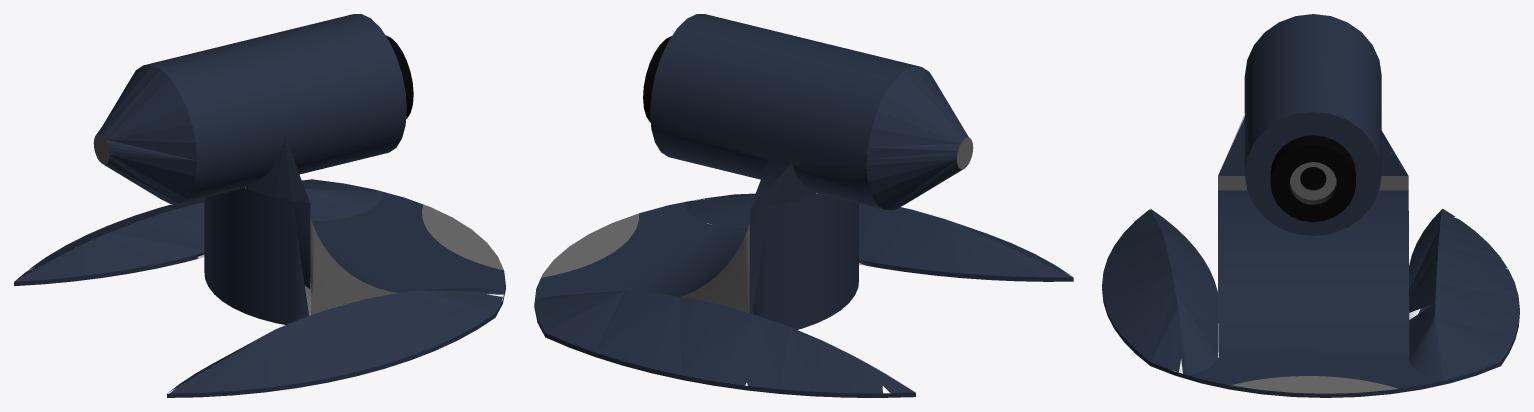
3 views of the same model, side by side, from view 1: azimuth 30°, elevation 25°; view 2: azimuth 150°, elevation 25°; view 3: azimuth 270°, elevation 25° (orthographic). The views are drawn at different scales.
Parts seen in each view (by area): view 1: mesh1-geometry-0, mesh1-geometry-2, mesh1-geometry-3; view 2: mesh1-geometry-0, mesh1-geometry-2, mesh1-geometry-3; view 3: mesh1-geometry-0, mesh1-geometry-3, mesh1-geometry-2.
Boxes of the visible parts, x1,y1,x2,y2 form: mesh1-geometry-0: [14, 14, 505, 397]; mesh1-geometry-2: [93, 133, 503, 314]; mesh1-geometry-3: [385, 35, 413, 118]; mesh1-geometry-0: [534, 14, 1073, 397]; mesh1-geometry-2: [541, 137, 973, 312]; mesh1-geometry-3: [643, 36, 671, 122]; mesh1-geometry-0: [1102, 14, 1519, 397]; mesh1-geometry-3: [1270, 135, 1355, 222]; mesh1-geometry-2: [1218, 162, 1408, 393].
Bounding box in the file's own units: 0.6651 × 0.3948 × 0.6339.
